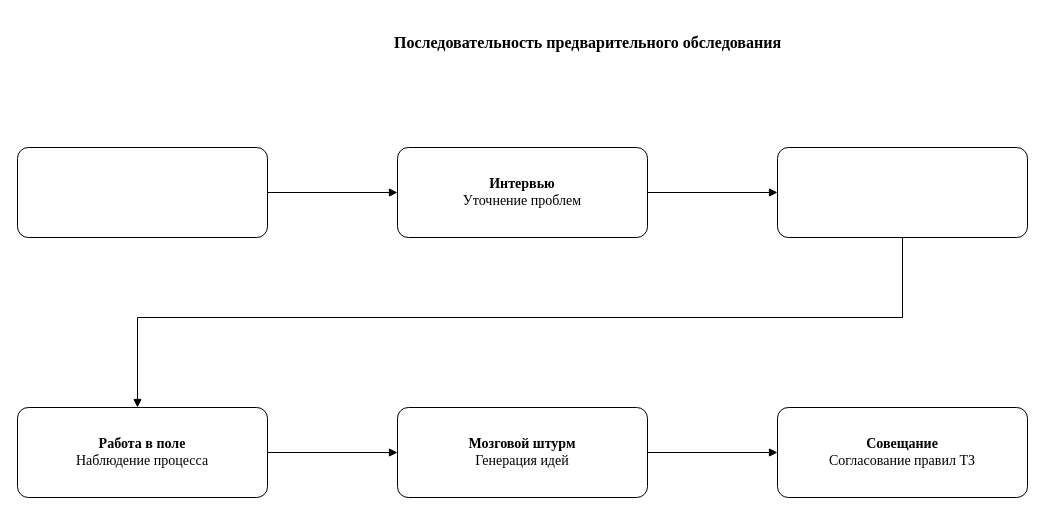
The diagram is 1045 pixels wide and 515 high, and some of its shapes have lost their labels. Each missing label, with the centre of its shape:
Автозапись Самофиксация действий: [902,192]
Анкетирование Массовый сбор оценок: [142,192]
